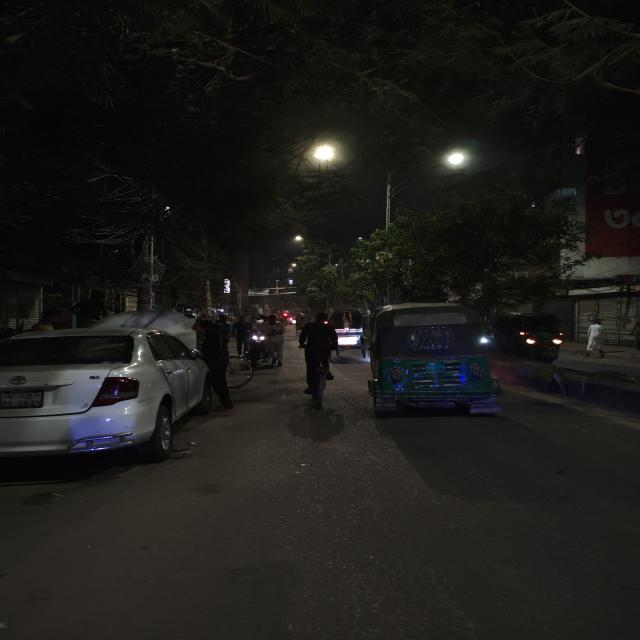bicycle: (296, 313, 338, 411)
car: (2, 317, 212, 462)
cng: (368, 301, 500, 416), (505, 310, 566, 362)
motorcycle: (247, 315, 281, 369)
pedestrian: (583, 319, 609, 364)
rickshaw: (330, 306, 365, 354)
